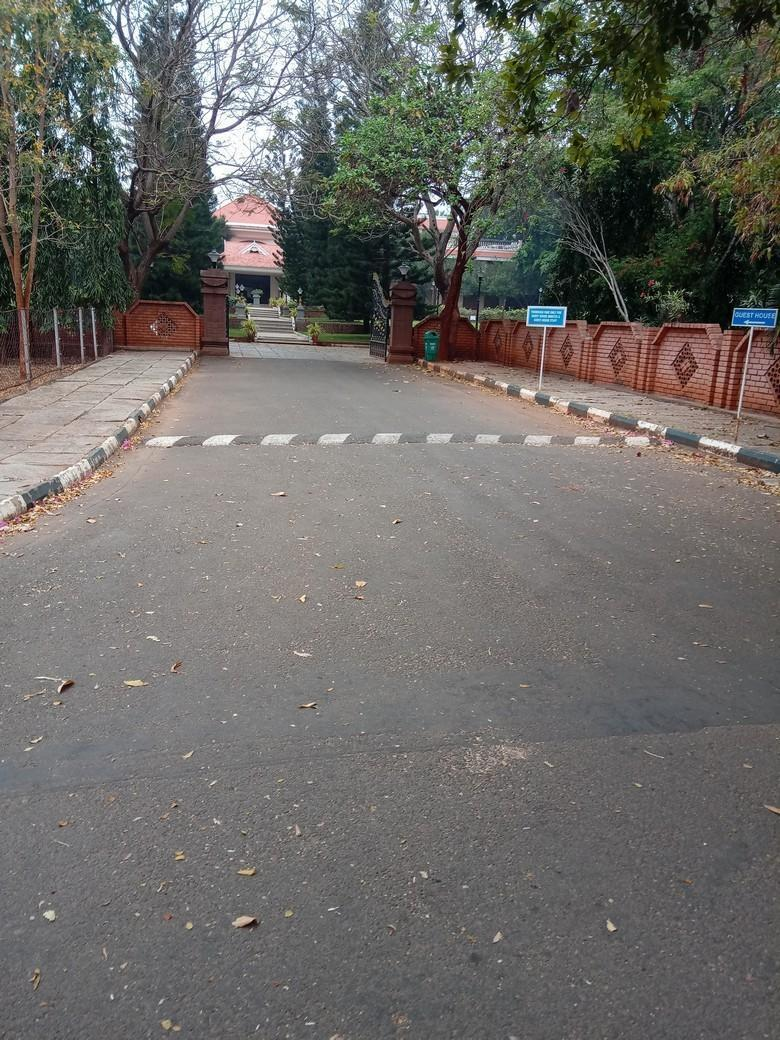speedbreaker: (132, 424, 670, 456)
